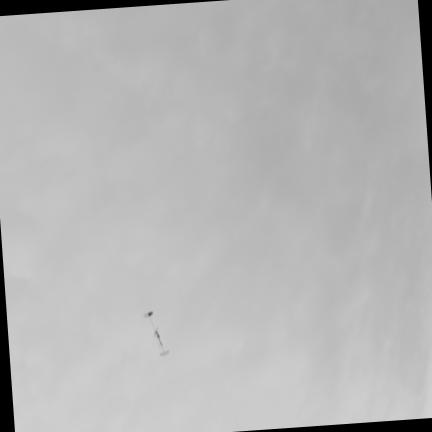Shahed: (143, 310, 168, 354)
